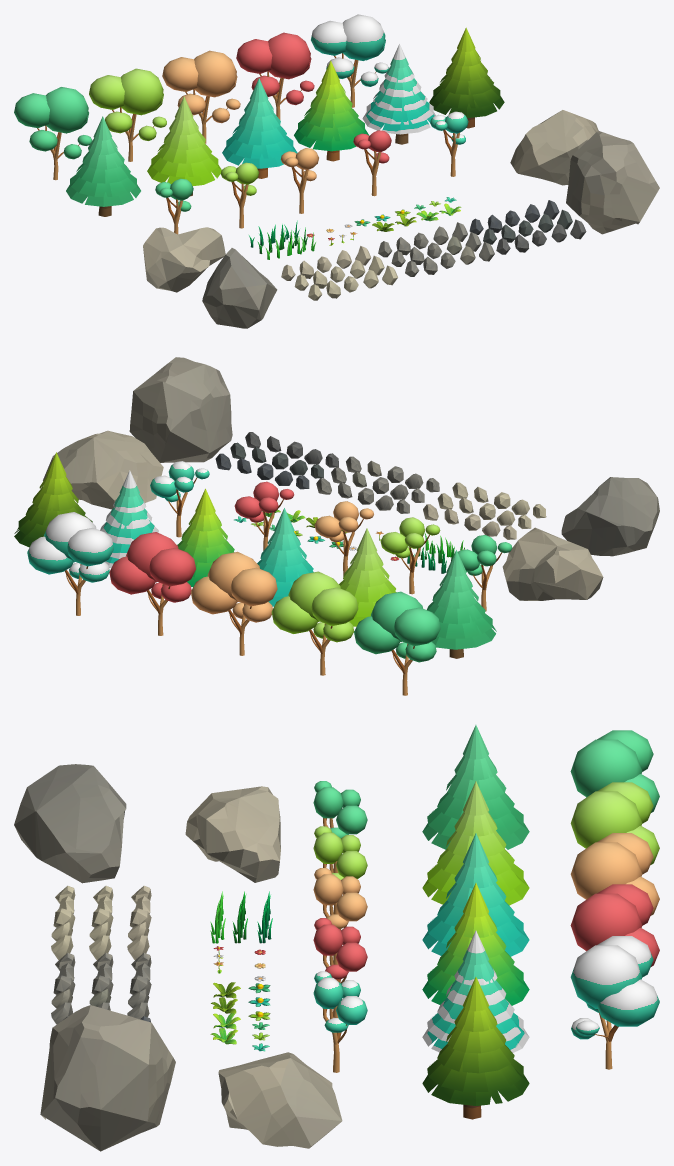
The model's file is Nature Props.obj.
The picture shows the model from 3 angles, top to bottom: view 1: azimuth 30°, elevation 25°; view 2: azimuth 150°, elevation 25°; view 3: azimuth 270°, elevation 25°; orthographic projection. The views are drawn at different scales.
Parts seen in each view (by area): view 1: rock.003, rock.001, rock, rock.002, tree.009_tree.015, tree.018_tree.027, tree_tree.001, tree.002_tree.004, tree.019_tree.028, tree.020_tree.029, tree.004_tree.006, tree.003_tree.005 (+8 smaller); view 2: rock.003, rock, rock.002, rock.001, tree_tree.001, tree.002_tree.004, tree.003_tree.005, tree.004_tree.006, tree.014_tree.023, tree.009_tree.015, tree.020_tree.029, tree.016_tree.025 (+8 smaller); view 3: rock.003, rock, rock.002, tree.020_tree.029, tree.004_tree.006, rock.001, tree.009_tree.015, tree.016_tree.025, tree.017_tree.026, tree.019_tree.028, tree.018_tree.027, tree_tree.001 (+8 smaller).
Part boxes in pixels (bbox=[...]): rock.003: bbox=[566, 130, 659, 234]; rock.001: bbox=[143, 227, 225, 292]; rock: bbox=[202, 248, 277, 328]; rock.002: bbox=[510, 110, 598, 185]; tree.009_tree.015: bbox=[66, 116, 140, 216]; tree.018_tree.027: bbox=[362, 44, 435, 144]; tree_tree.001: bbox=[14, 87, 92, 180]; tree.002_tree.004: bbox=[89, 68, 166, 161]; tree.019_tree.028: bbox=[294, 60, 369, 161]; tree.020_tree.029: bbox=[429, 27, 504, 128]; tree.004_tree.006: bbox=[311, 14, 388, 107]; tree.003_tree.005: bbox=[162, 50, 240, 143]; rock.003: bbox=[129, 357, 232, 462]; rock: bbox=[561, 477, 659, 556]; rock.002: bbox=[43, 430, 163, 509]; rock.001: bbox=[502, 527, 603, 600]; tree_tree.001: bbox=[354, 591, 440, 695]; tree.002_tree.004: bbox=[271, 571, 358, 675]; tree.003_tree.005: bbox=[190, 551, 277, 655]; tree.004_tree.006: bbox=[27, 512, 113, 615]; tree.014_tree.023: bbox=[109, 532, 195, 635]; tree.009_tree.015: bbox=[427, 550, 496, 658]; tree.020_tree.029: bbox=[14, 452, 92, 547]; tree.016_tree.025: bbox=[339, 528, 396, 626]; rock.003: bbox=[40, 1005, 175, 1151]; rock: bbox=[14, 764, 126, 883]; rock.002: bbox=[218, 1052, 342, 1148]; tree.020_tree.029: bbox=[422, 977, 529, 1119]; tree.004_tree.006: bbox=[570, 936, 659, 1069]; rock.001: bbox=[185, 786, 280, 882]; tree.009_tree.015: bbox=[422, 725, 529, 849]; tree.016_tree.025: bbox=[422, 781, 529, 905]; tree.017_tree.026: bbox=[422, 833, 529, 956]; tree.019_tree.028: bbox=[422, 883, 529, 1005]; tree.018_tree.027: bbox=[422, 930, 529, 1052]; tree_tree.001: bbox=[570, 730, 659, 812].
Bounding box in the file's own units: 7.66 × 1.66 × 6.31.
